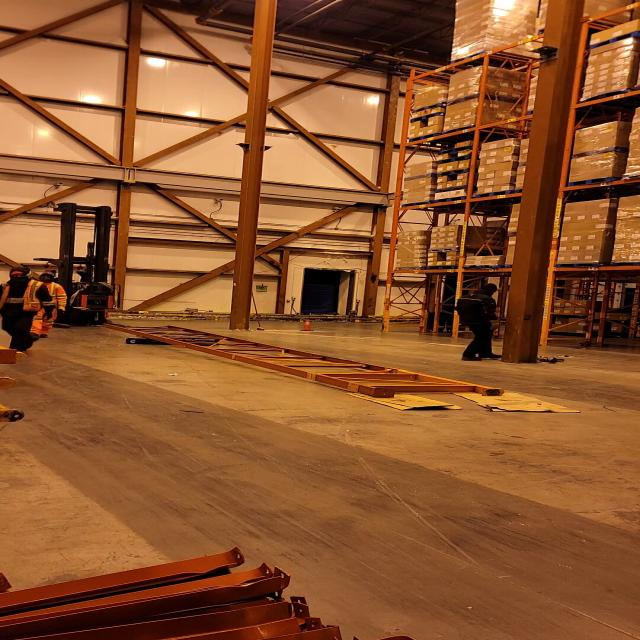forklift: (37, 205, 131, 329)
human: (452, 283, 508, 362), (1, 265, 42, 352), (36, 269, 71, 333)
objectofinterest: (100, 320, 512, 396), (450, 385, 582, 415), (341, 386, 464, 412), (119, 334, 177, 348)
